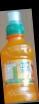orange: (1, 11, 37, 104)
